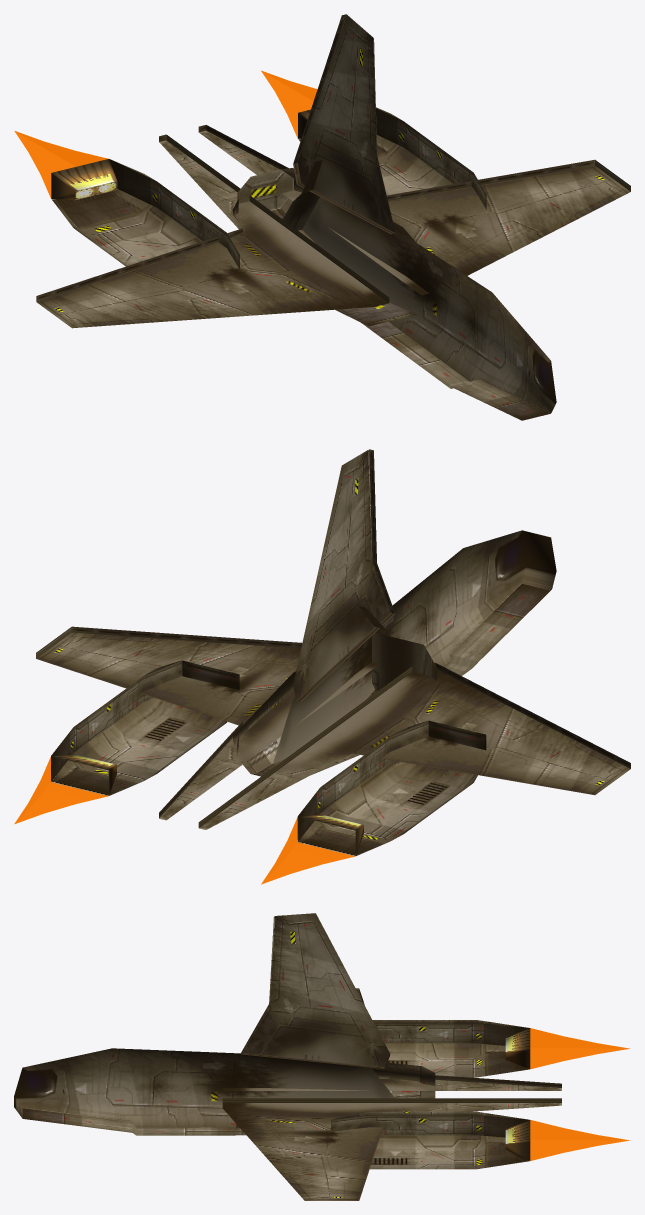
Rendered from hyena.gltf.
3 views of the same model, one above another, from view 1: azimuth 30°, elevation 25°; view 2: azimuth 150°, elevation 25°; view 3: azimuth 270°, elevation 25° (orthographic). The views are drawn at different scales.
Visible parts, largest first — view 1: base_glow, glow; view 2: base_glow, glow; view 3: base_glow, glow.
Boxes of the visible parts, x1,y1,x2,y2 form: base_glow: [36, 14, 630, 420]; glow: [14, 70, 317, 198]; base_glow: [36, 449, 630, 856]; glow: [14, 757, 355, 884]; base_glow: [14, 913, 561, 1200]; glow: [530, 1028, 630, 1160].
Bounding box in the file's own units: 180 × 87.89 × 226.
2 materials, 1 textured.
